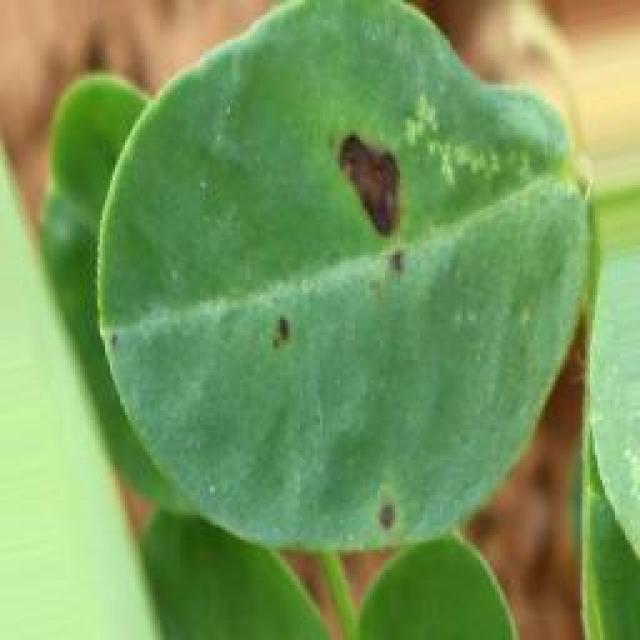Yellowish: (145, 0, 578, 585)
